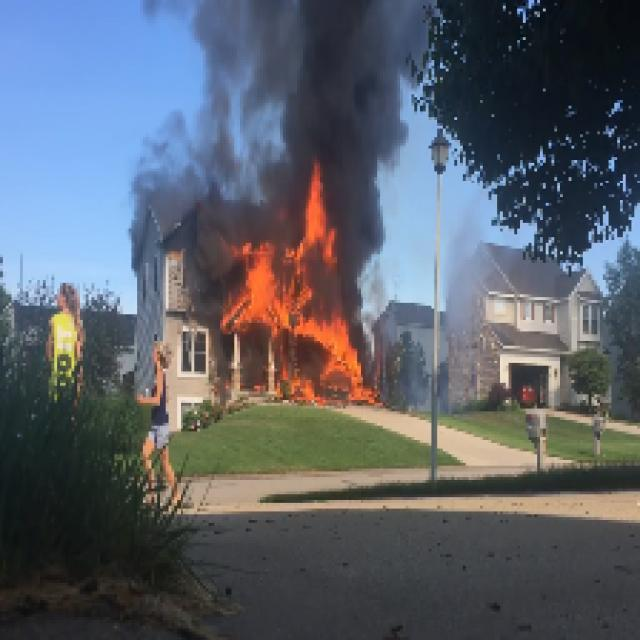Fire: (312, 316, 354, 390), (301, 162, 330, 251), (252, 252, 284, 322)
Smoke: (202, 0, 396, 155), (337, 160, 375, 278)
